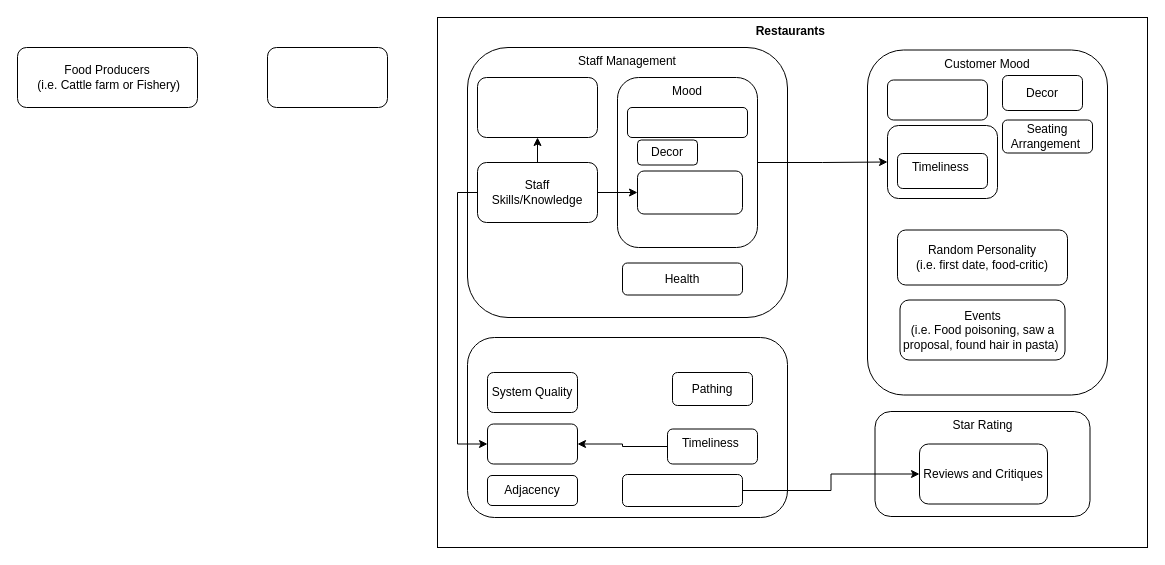
The diagram is 1165 pixels wide and 565 high, and some of its shapes have lost their labels. The shapes that lost their labels are listed below. From the top down, each one's box as (x1, y1, x2, y2) in pixels, then its label:
(266, 46, 388, 108): Warehouse
(476, 76, 598, 138): Staff Stations
(886, 79, 988, 120): Food Quality
(626, 106, 748, 138): Work Relationships
(886, 124, 998, 198): Service Quality
(636, 170, 742, 214): Stress
(486, 423, 578, 464): Cleanliness
(466, 336, 788, 518): Food Safety
(622, 474, 742, 506): Health Code Rating
